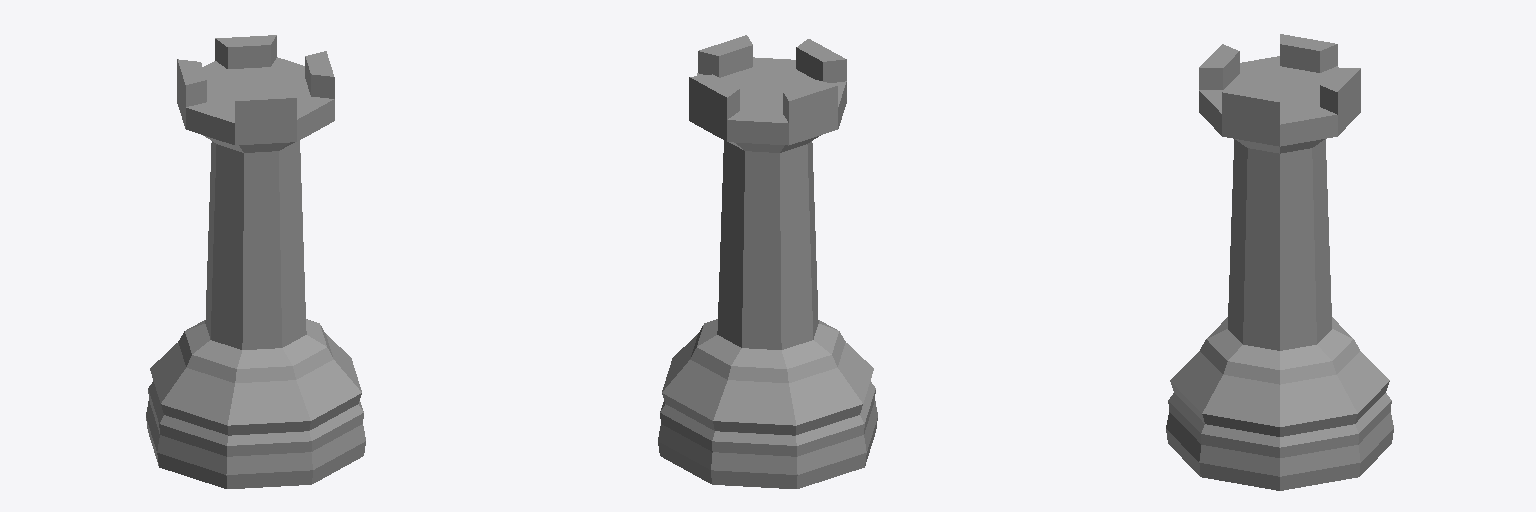
File: Rook.obj
The picture shows the model from 3 angles: view 1: azimuth 30°, elevation 25°; view 2: azimuth 150°, elevation 25°; view 3: azimuth 270°, elevation 25°; orthographic projection.
Visible parts, largest first — view 1: Black_Rook_Cylinder.008; view 2: Black_Rook_Cylinder.008; view 3: Black_Rook_Cylinder.008.
Part boxes in pixels (left/top/right/bottom): Black_Rook_Cylinder.008: left=146, top=35, right=365, bottom=488; Black_Rook_Cylinder.008: left=658, top=35, right=877, bottom=488; Black_Rook_Cylinder.008: left=1166, top=34, right=1393, bottom=490.
Size of the model in its own units: 4.68 by 8.5 by 4.68.